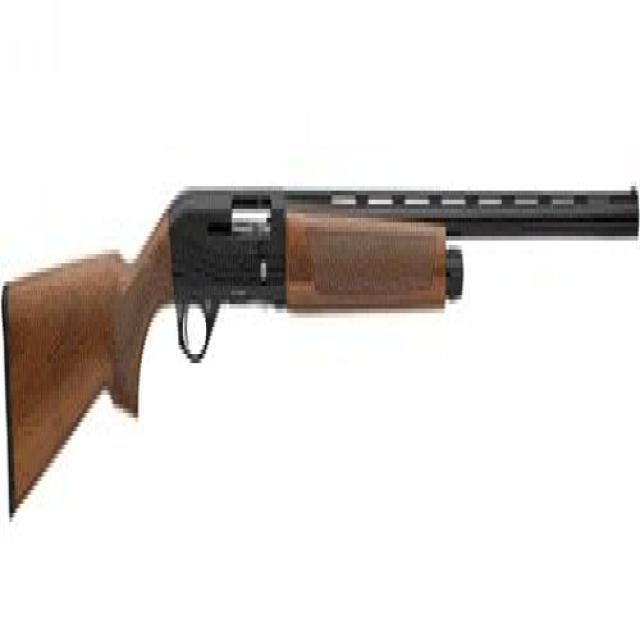ShotGun: (1, 186, 640, 504)
